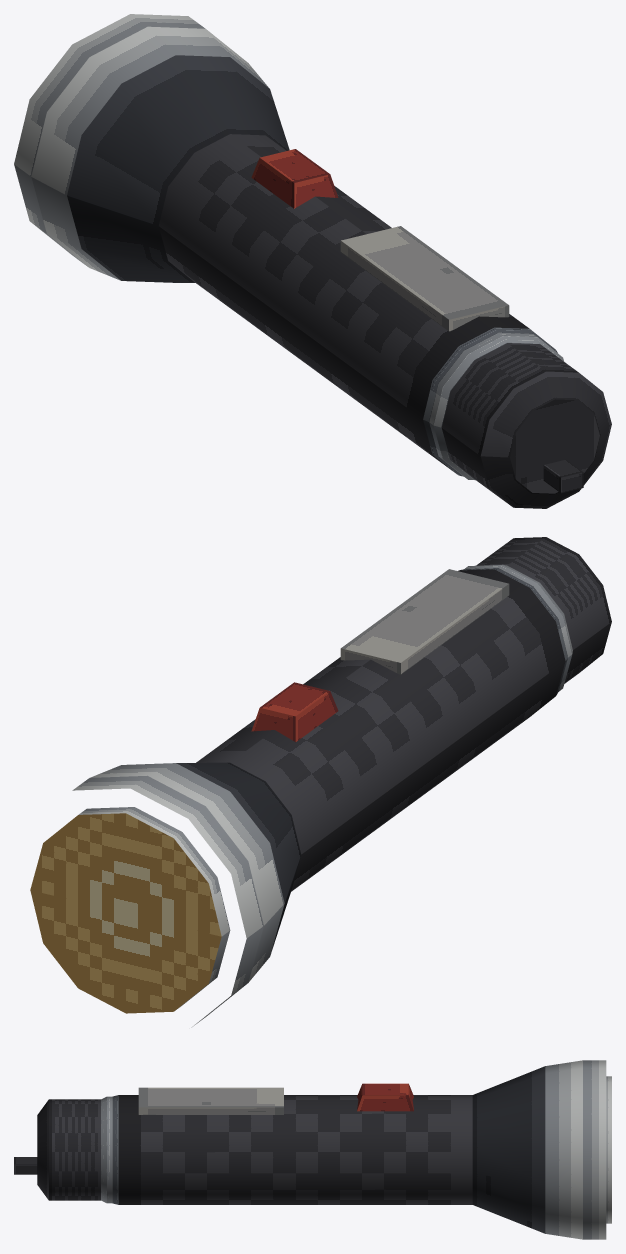
Rendered from INV_Flashlight.glb.
The picture shows the model from 3 angles, top to bottom: view 1: azimuth 30°, elevation 25°; view 2: azimuth 150°, elevation 25°; view 3: azimuth 270°, elevation 25°; orthographic projection. The views are drawn at different scales.
Visible parts, largest first — view 1: INV_Flashlight_Mesh; view 2: INV_Flashlight_Mesh; view 3: INV_Flashlight_Mesh.
Boxes of the visible parts, x1,y1,x2,y2 form: INV_Flashlight_Mesh: (14,14,611,508); INV_Flashlight_Mesh: (30,537,611,1027); INV_Flashlight_Mesh: (14,1060,611,1239).
Size of what is drawn, in the model's own units: 0.062 by 0.062 by 0.206.
Materials: 1 (1 with a texture image).
